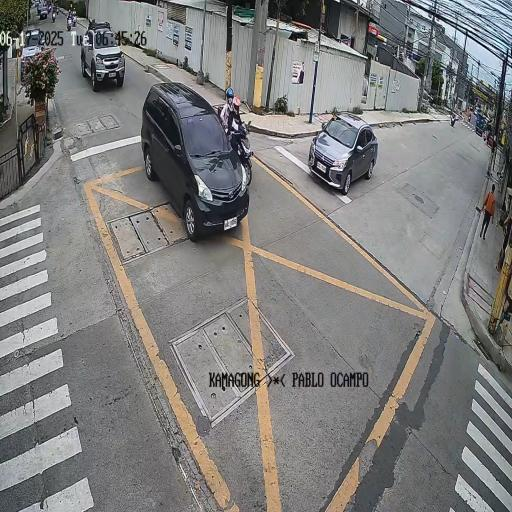Car: (124, 76, 252, 246), (309, 90, 393, 216), (75, 22, 126, 97)
Motor: (214, 54, 266, 171)
